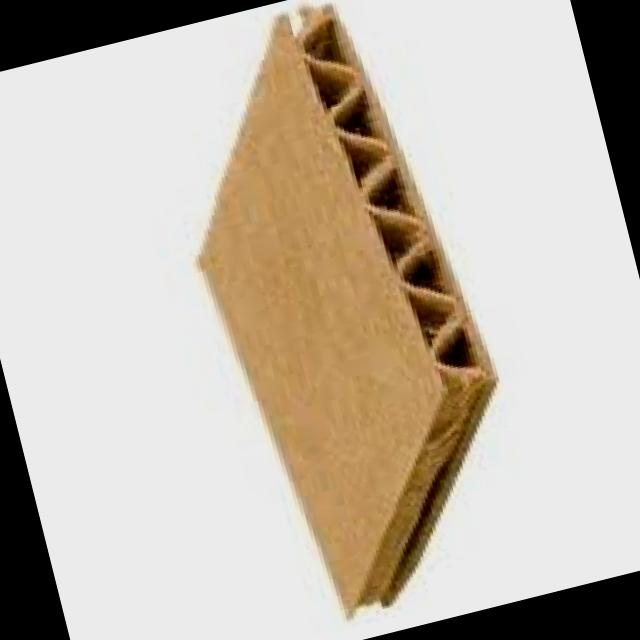cardboard: (200, 8, 493, 612)
